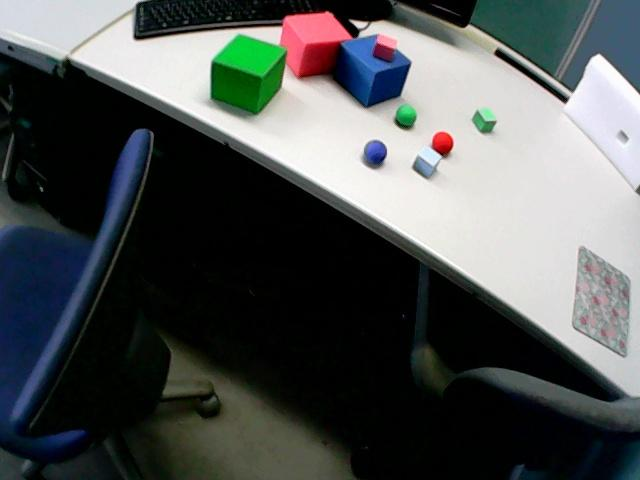blue_block: (335, 36, 410, 106), (413, 147, 441, 177)
red_block: (280, 12, 351, 77), (373, 34, 396, 61)
